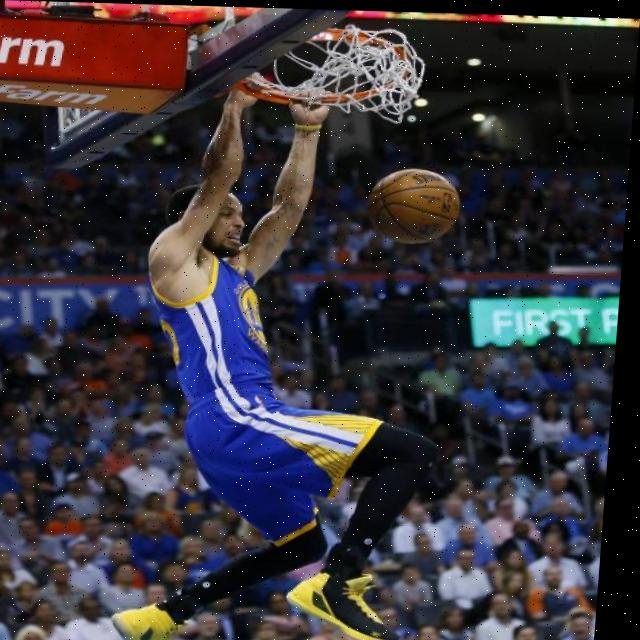basketball: (362, 166, 463, 244)
hoop: (215, 21, 430, 123)
